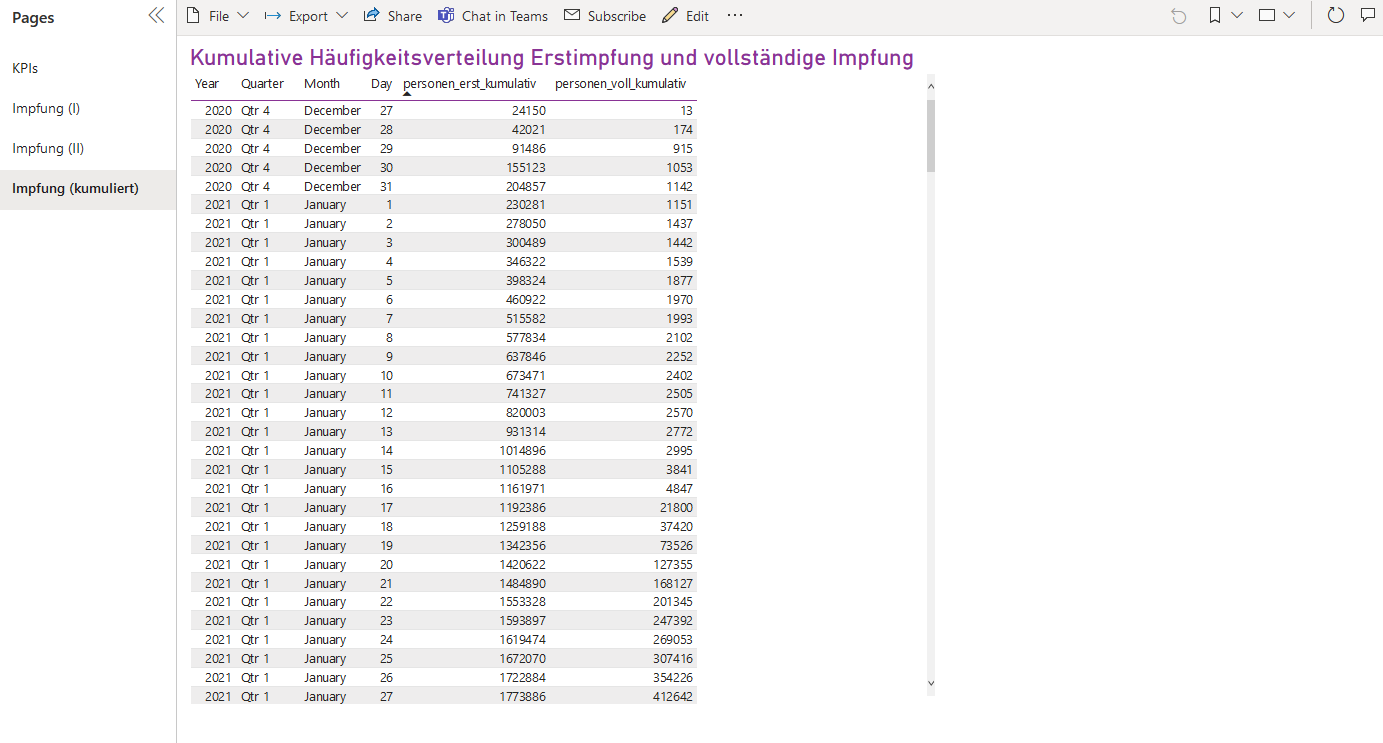

Layout of this report page (visuals, bound fields, positions):
{"tool":"powerbi","page":{"name":"Impfung (kumuliert)","canvas":[1280,720],"ordinal":3},"visuals":[{"type":"tableEx","title":"Kumulative Häufigkeitsverteilung Erstimpfung und vollständige Impfung","fields":{"Values":["germany_vaccinations_timeseries_v2 (2).date.Variation.Date Hierarchy.Year","germany_vaccinations_timeseries_v2 (2).date.Variation.Date Hierarchy.Quarter","germany_vaccinations_timeseries_v2 (2).date.Variation.Date Hierarchy.Month","germany_vaccinations_timeseries_v2 (2).date.Variation.Date Hierarchy.Day","Sum(germany_vaccinations_timeseries_v2 (2).personen_erst_kumulativ)","Sum(germany_vaccinations_timeseries_v2 (2).personen_voll_kumulativ)"]},"box":[8,9,798.7,703.3],"z":0}]}

Visuals, with their boxes on the page's 1280x720 design canvas (x1, y1, x2, y2). These are canvas units, not pixel positions in the 1383x743 screenshot, which may show the page scaled, cropped or inside an application window:
"Kumulative Häufigkeitsverteilung Erstimpfung und vollständige Impfung" tableEx: l=8, t=9, r=807, b=712
